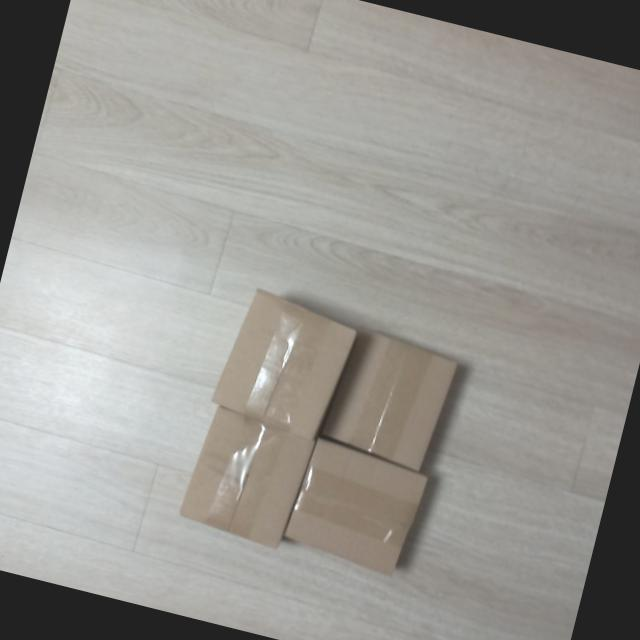box: (205, 278, 368, 440), (278, 432, 438, 586), (170, 400, 322, 554), (316, 320, 466, 474)
